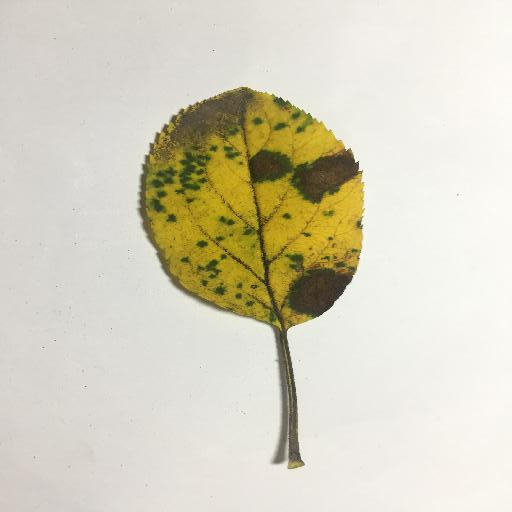Brown_Spot: (137, 91, 237, 150), (128, 153, 203, 222), (279, 153, 354, 188), (279, 266, 338, 309), (246, 144, 285, 172)
